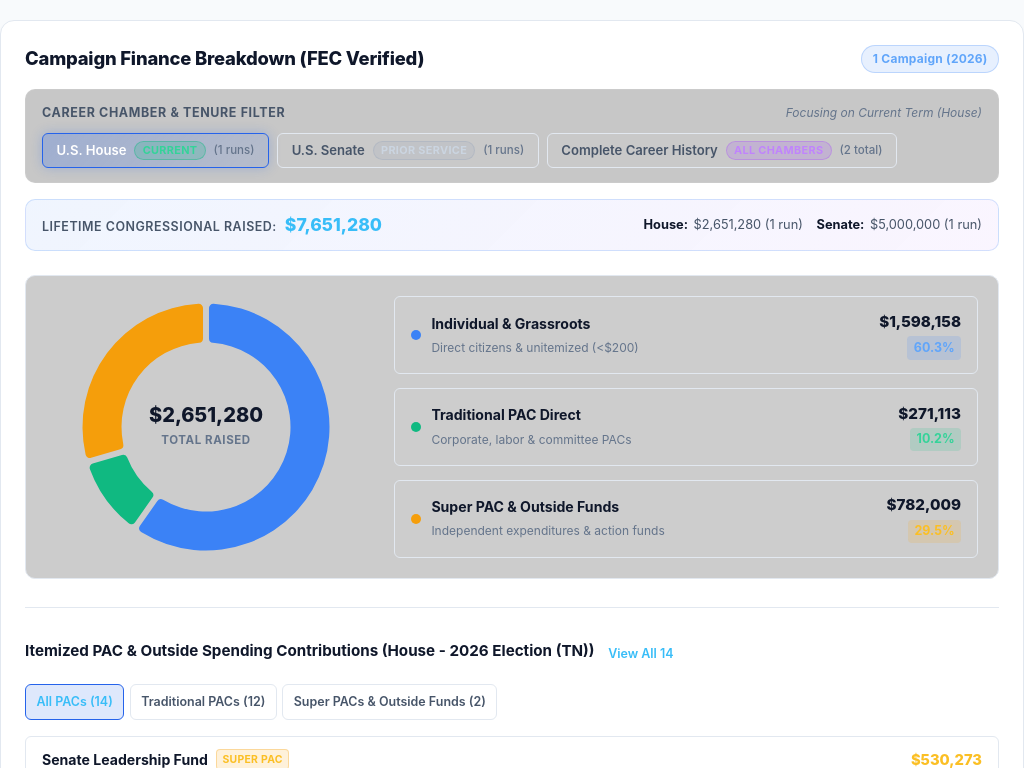
Test: FinanceChart Component › switches to Complete Career History lifetime totals on the Donut graph
This screenshot has width=1024, height=768.
Click the text "Complete Career History" at [640, 150], box [561, 142, 718, 158]
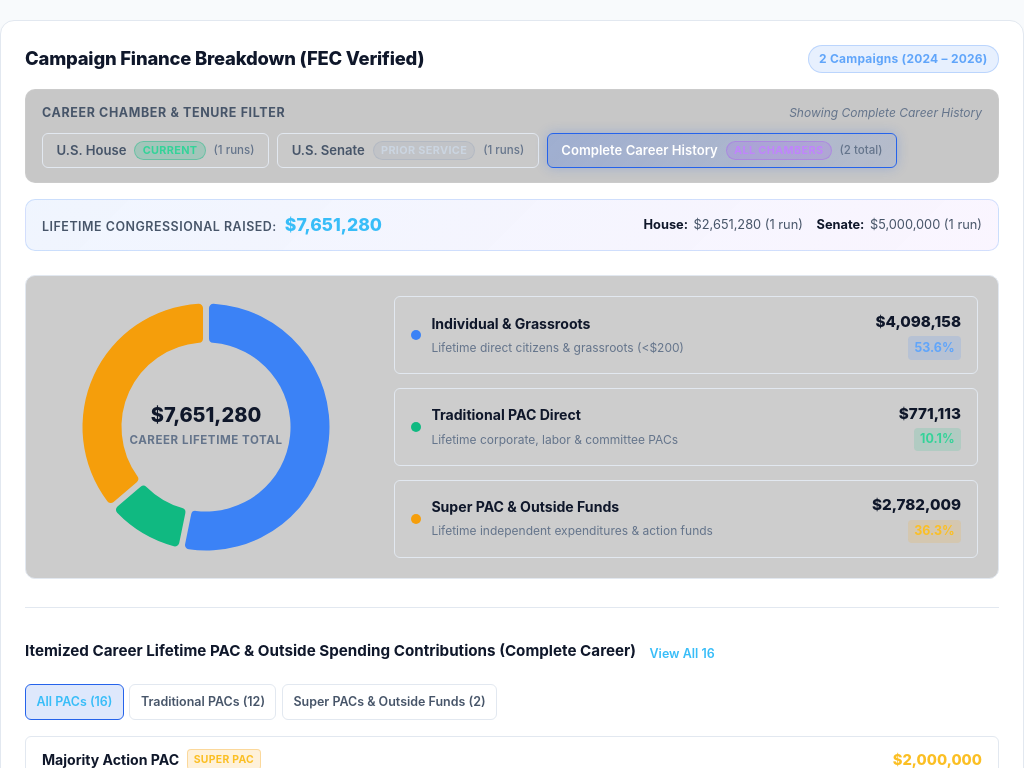
Now the text "Career Lifetime Total" is shown, box [129, 433, 283, 447]
Now the heading "Itemized Career Lifetime PAC & Outside Spending Contributions (Complete Career)" is shown, box [25, 640, 636, 663]
